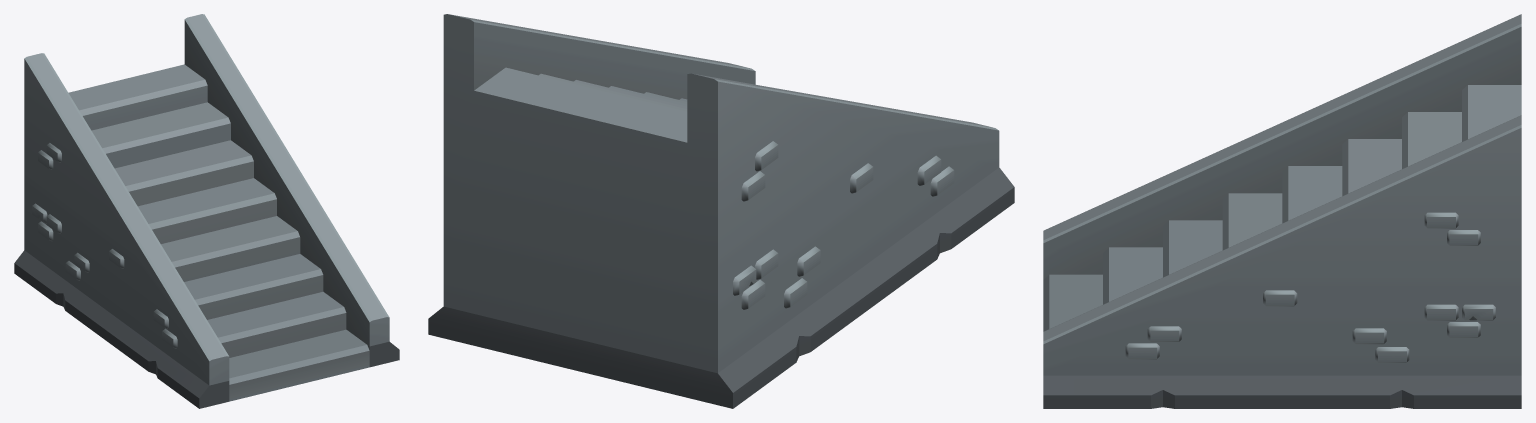
The model's file is stairs_long.glb.
The picture shows the model from 3 angles, left to right: view 1: azimuth 30°, elevation 25°; view 2: azimuth 150°, elevation 25°; view 3: azimuth 270°, elevation 25°; orthographic projection. The views are drawn at different scales.
Parts seen in each view (by area): view 1: stairs_long; view 2: stairs_long; view 3: stairs_long.
Part boxes in pixels (x1,y1,x2,y2): stairs_long: (14,14,399,408); stairs_long: (428,14,1014,408); stairs_long: (1043,14,1521,408).
Bounding box in the file's own units: 5 × 5.1 × 8.
1 material, 1 textured.
